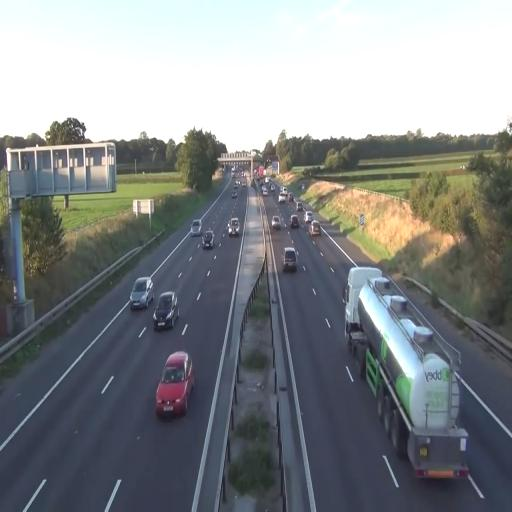vehicle: (350, 270, 470, 481), (154, 350, 196, 419), (153, 292, 179, 331), (130, 276, 154, 311), (283, 246, 298, 273), (201, 230, 214, 249), (228, 217, 240, 237), (270, 214, 282, 232), (191, 220, 201, 234)
